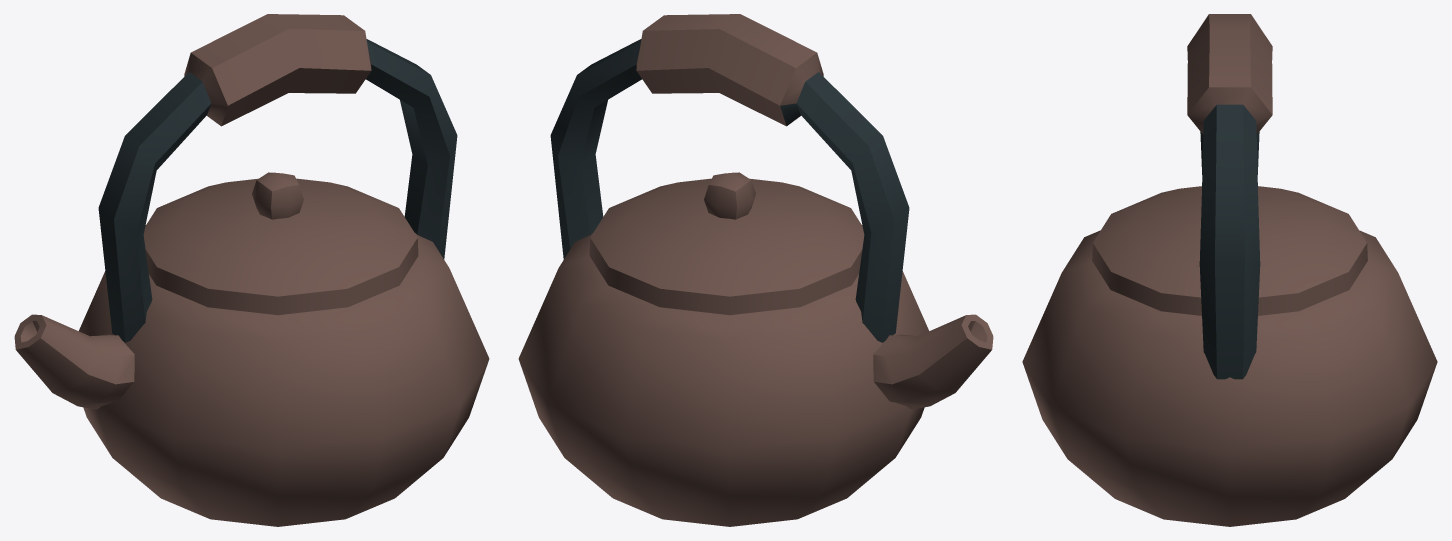
Rendered from teakettle.gltf.glb.
The picture shows the model from 3 angles, left to right: view 1: azimuth 30°, elevation 25°; view 2: azimuth 150°, elevation 25°; view 3: azimuth 270°, elevation 25°; orthographic projection.
Visible parts, largest first — view 1: teakettle; view 2: teakettle; view 3: teakettle.
Part boxes in pixels (bbox=[...]): teakettle: bbox=[14, 14, 489, 526]; teakettle: bbox=[518, 14, 993, 526]; teakettle: bbox=[1022, 14, 1437, 526].
Size of the model in its own units: 0.6825 by 0.6564 by 0.5614.
